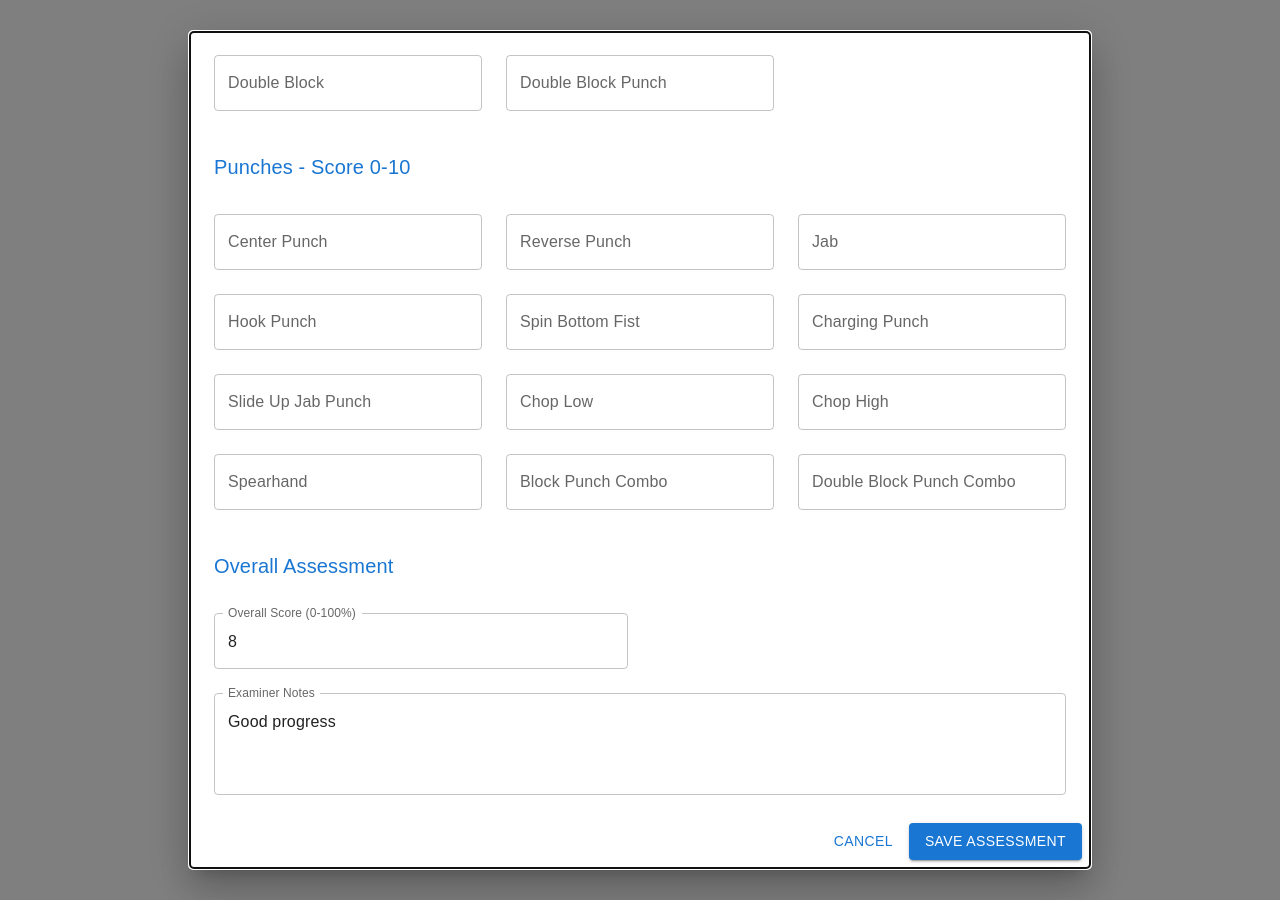
Test: AssessmentDialog › should handle form submission error
(page scrolled)
# Submit the form
Click the button "Save Assessment" at (995, 841), box x1=909 y1=823 x2=1082 y2=860
(page scrolled)
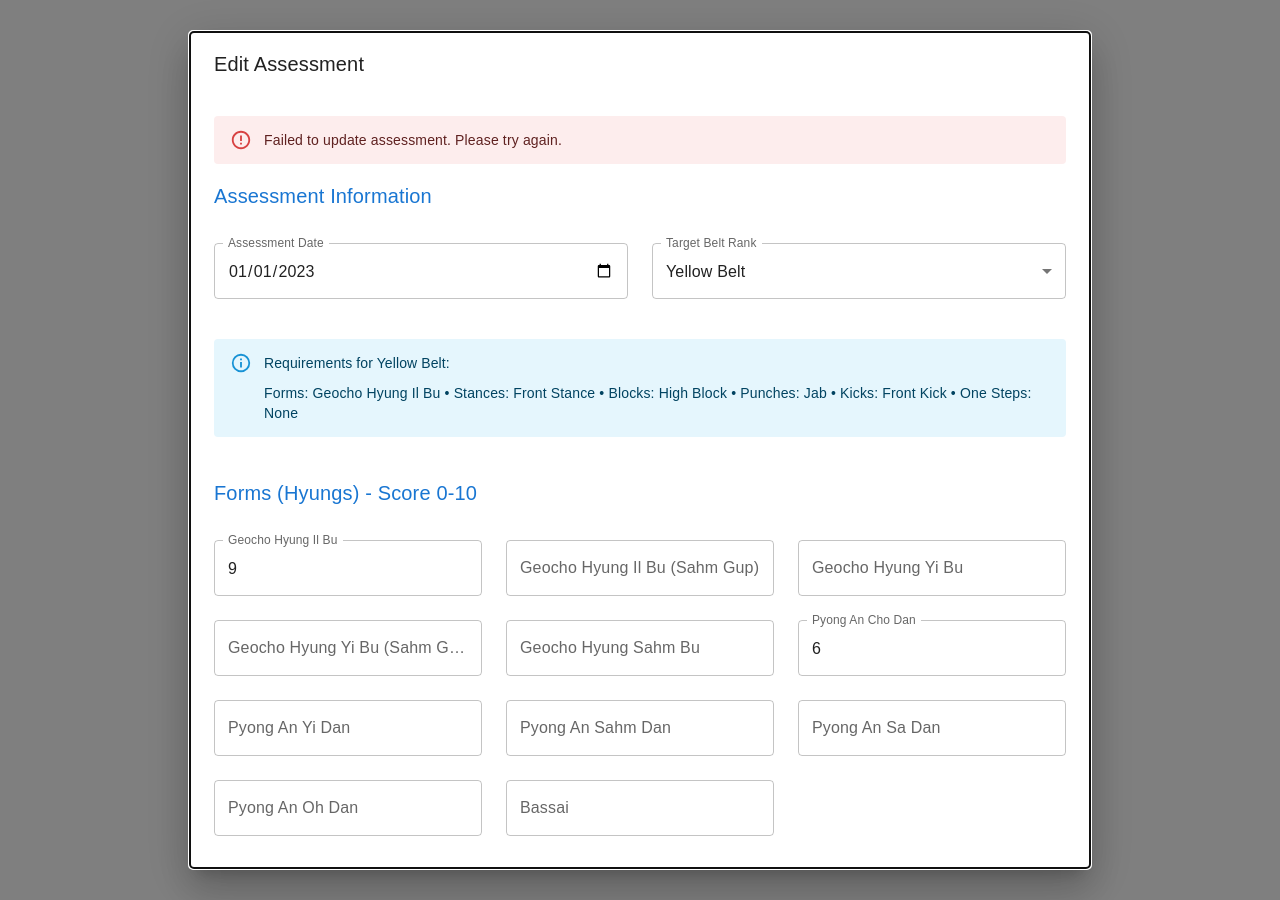
Result: the text "Failed to update assessment. Please try again." is shown at x1=264 y1=132 x2=562 y2=148
